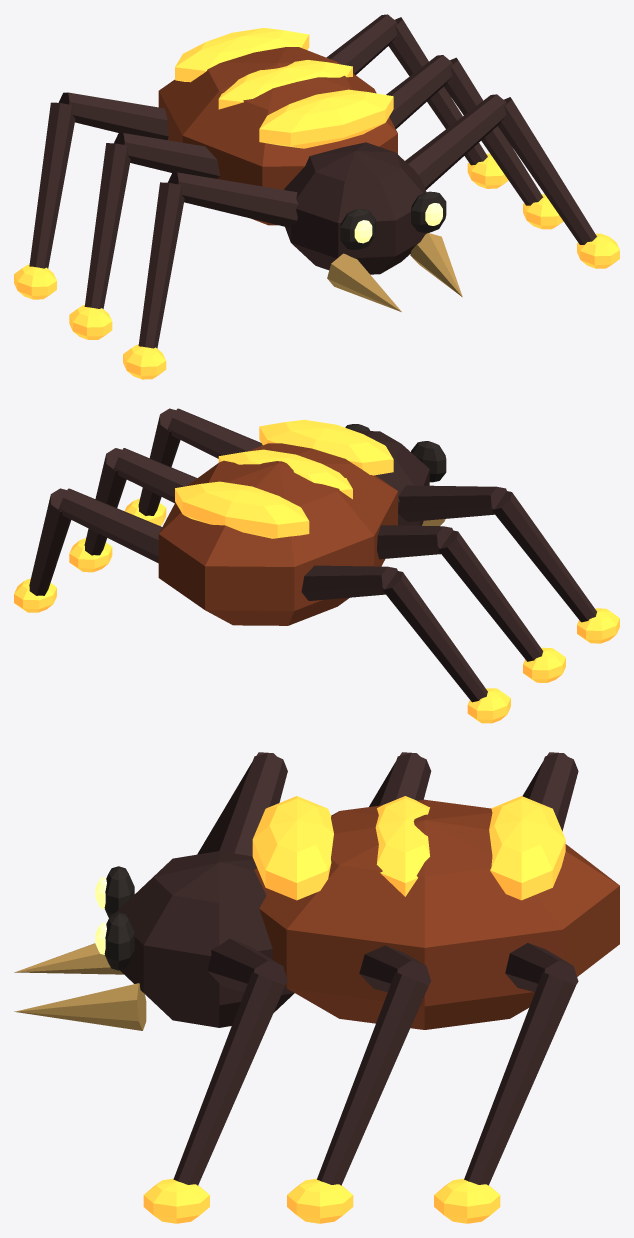
Rendered from fauna-embercrawler.glb.
The picture shows the model from 3 angles, top to bottom: view 1: azimuth 30°, elevation 25°; view 2: azimuth 150°, elevation 25°; view 3: azimuth 270°, elevation 25°; orthographic projection. The views are drawn at different scales.
Parts seen in each view (by area): view 1: Fauna_embercrawler; view 2: Fauna_embercrawler; view 3: Fauna_embercrawler.
Boxes of the visible parts, x1=… form: Fauna_embercrawler: x1=14, y1=14, x2=619, y2=379; Fauna_embercrawler: x1=14, y1=408, x2=619, y2=723; Fauna_embercrawler: x1=14, y1=752, x2=619, y2=1223.
Bounding box in the file's own units: 1.94 × 0.72 × 1.56.
